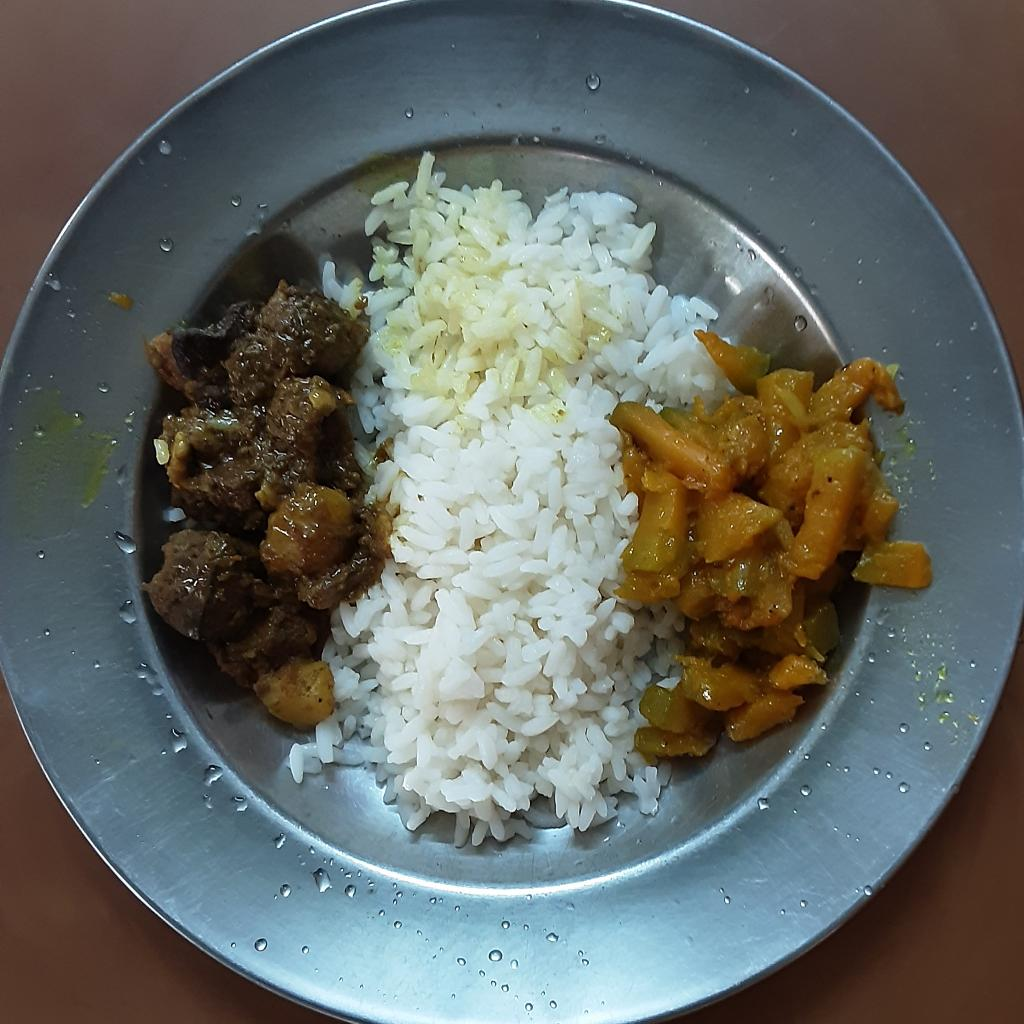beef: (141, 279, 408, 686)
kumra-vaji: (607, 325, 930, 763)
rice: (289, 154, 739, 845)
